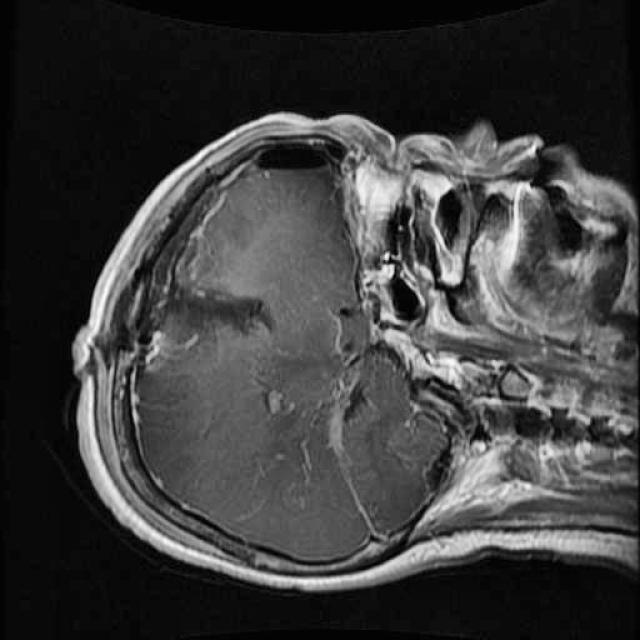Non-Tumor: (118, 160, 309, 399)
